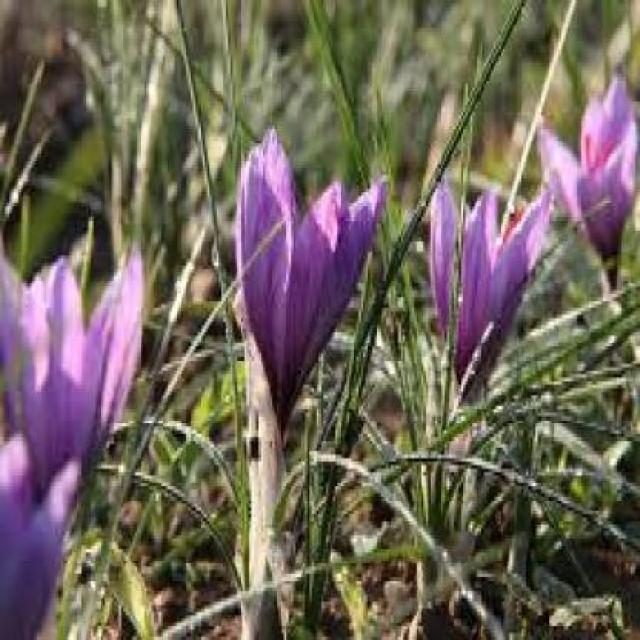saffron open: (234, 127, 383, 509), (0, 252, 144, 498), (431, 177, 546, 394), (540, 75, 638, 287), (428, 177, 456, 334)
